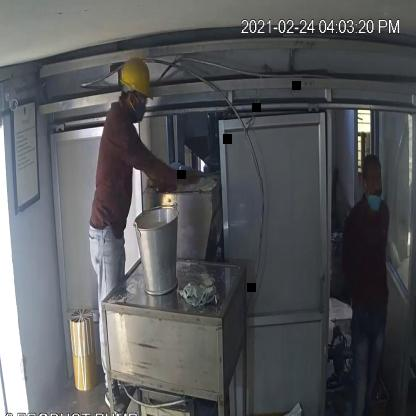helmet: (121, 60, 154, 91)
